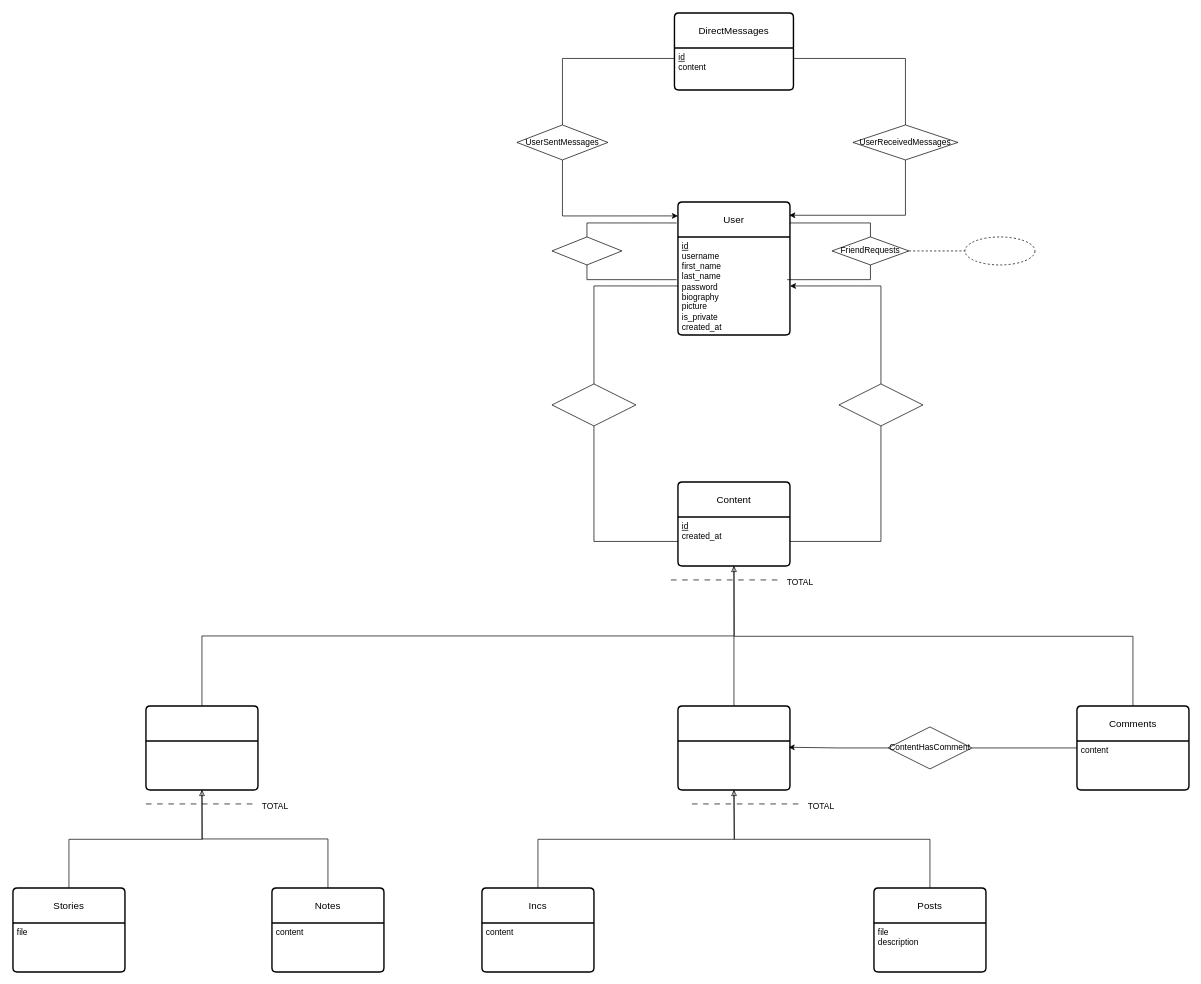
Some shapes in this 1201 by 984 pixel diagram are drawn without their labels. The centre of each missing label's shape, as x and y in pixels:
"Friends" belongs at point (586, 250).
"LongFormContent" belongs at point (733, 747).
"ShortFormContent" belongs at point (201, 747).
"status" belongs at point (999, 250).
"UserHasContent" belongs at point (880, 404).
"UserLikesContent" belongs at point (593, 404).
